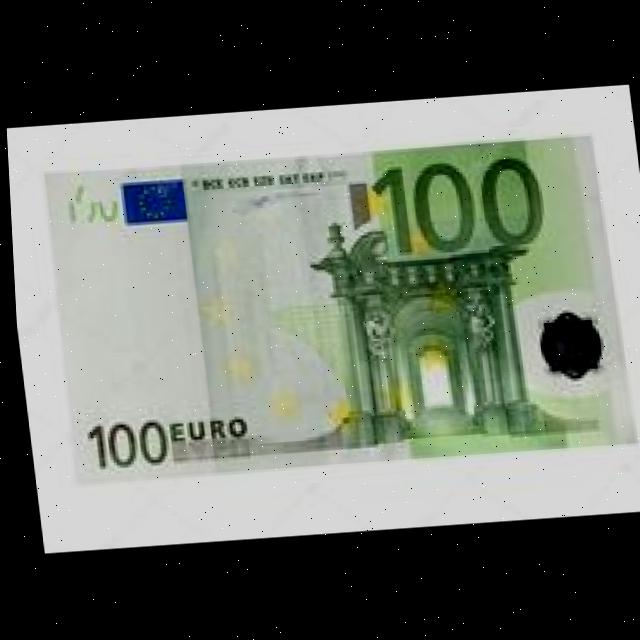banknote: (34, 129, 635, 482), (360, 148, 554, 258), (76, 412, 167, 476)
